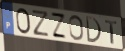D: (85, 16, 103, 45)
O: (15, 7, 32, 36), (68, 14, 85, 42)
T: (104, 20, 118, 46)
Z: (32, 9, 51, 38), (50, 11, 68, 40)
